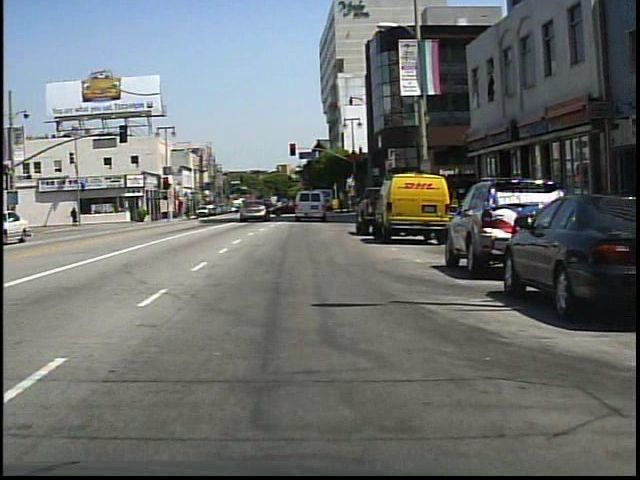person: (255, 193, 272, 224), (71, 205, 79, 226)
